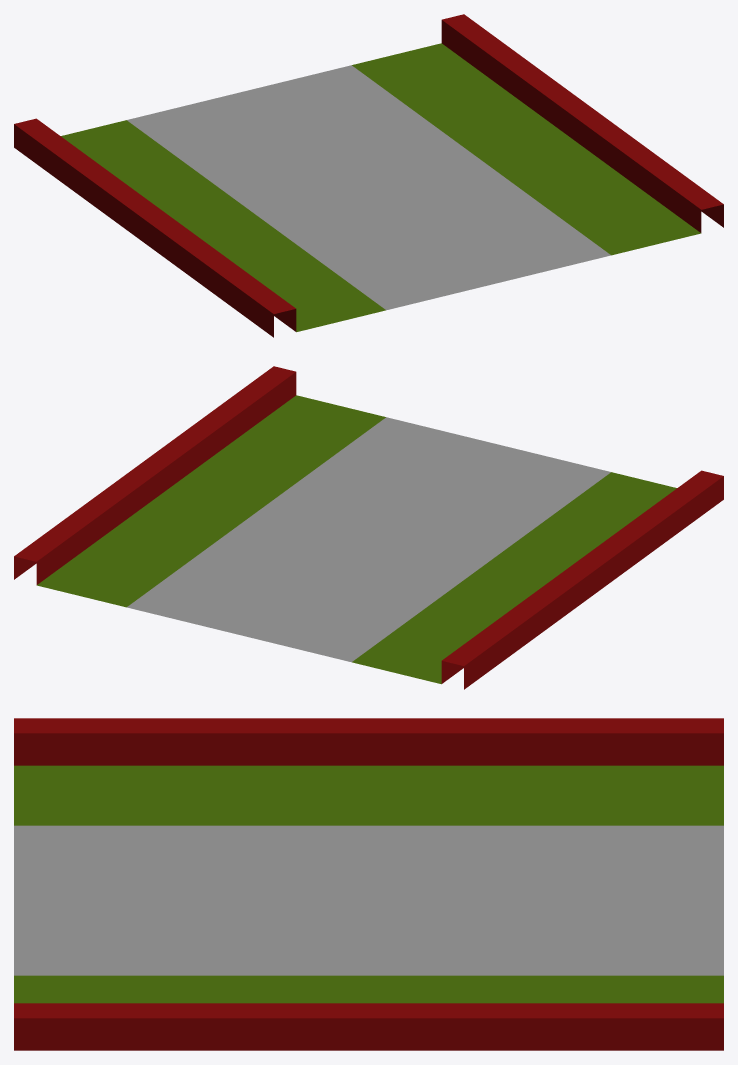
File: roadtile_straight_20x20.FBX
3 renders of one model, top to bottom at view 1: azimuth 30°, elevation 25°; view 2: azimuth 150°, elevation 25°; view 3: azimuth 270°, elevation 25°, orthographic. The views are drawn at different scales.
Parts seen in each view (by area): view 1: Plane006; view 2: Plane006; view 3: Plane006.
Part boxes in pixels (x1,y1,x2,y2): Plane006: (14,14,723,337); Plane006: (14,366,723,689); Plane006: (14,718,723,1050).
Size of the model in its own units: 787 by 39.37 by 787.
